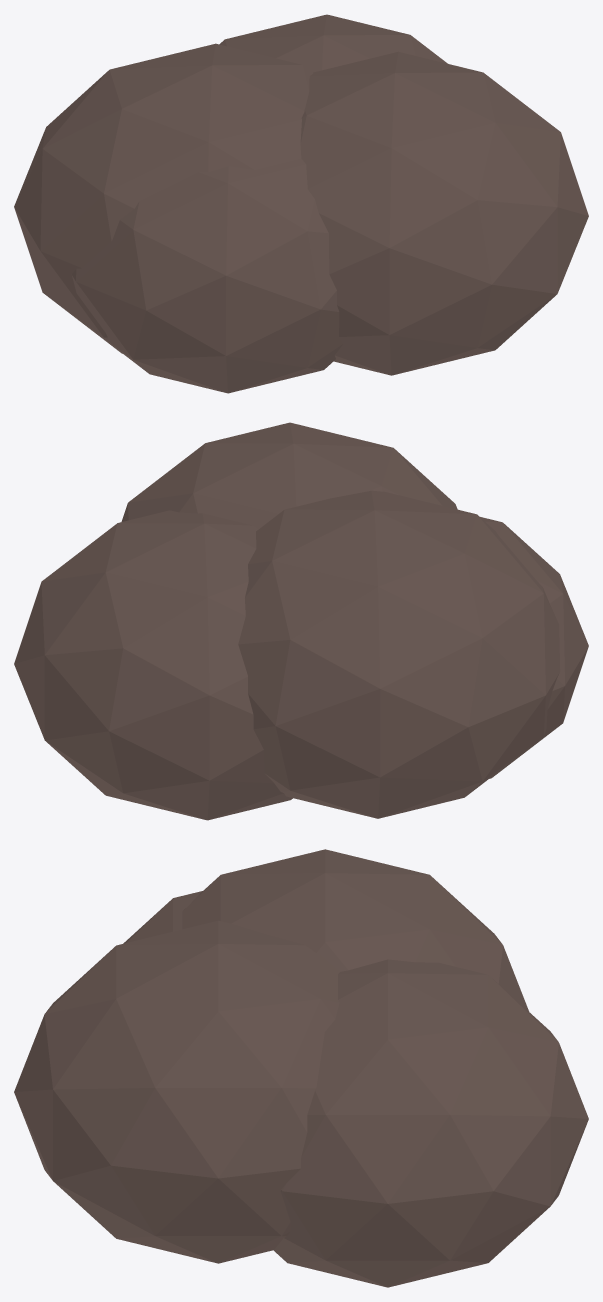
File: bush_1_4.ol.glb
The picture shows the model from 3 angles, top to bottom: view 1: azimuth 30°, elevation 25°; view 2: azimuth 150°, elevation 25°; view 3: azimuth 270°, elevation 25°; orthographic projection. The views are drawn at different scales.
Size of the model in its own units: 3.73 by 2.25 by 3.68.
